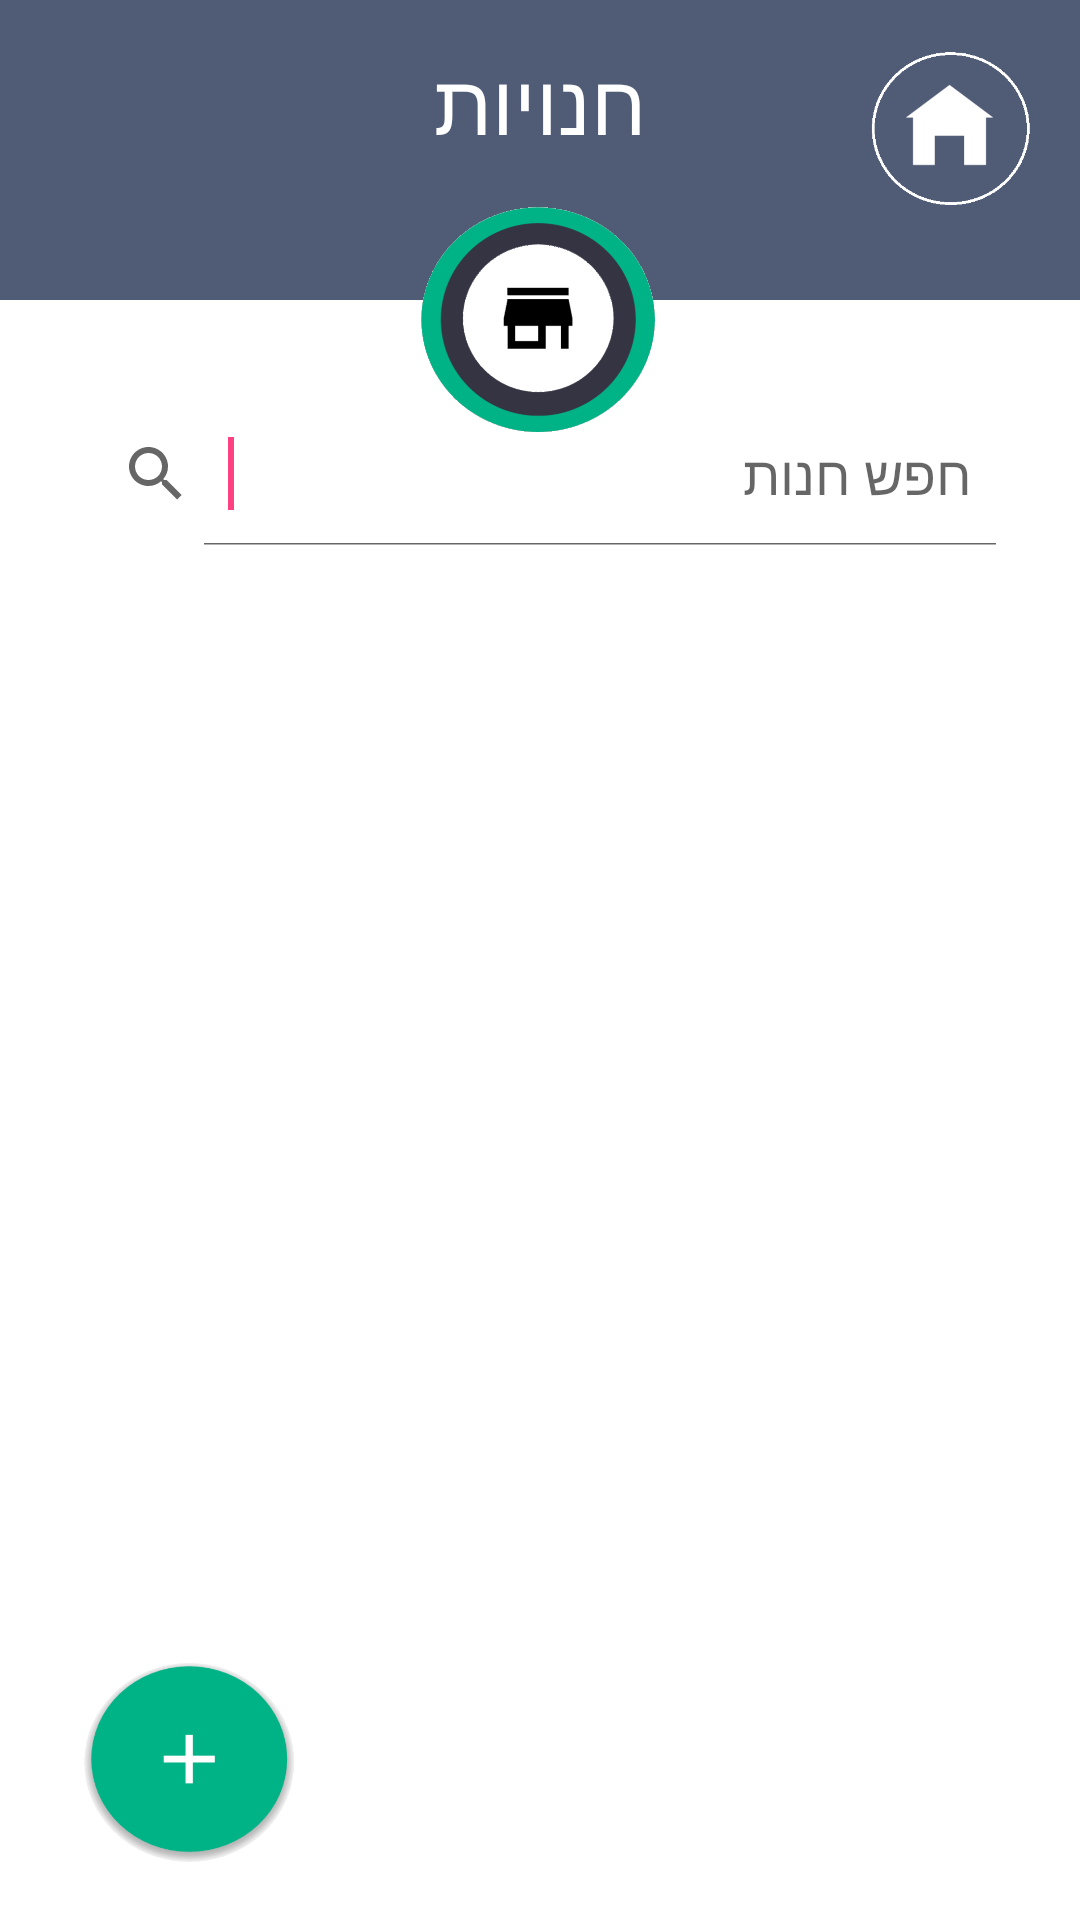

Locate icon controls on the screen. Image size 1080 x 1920, boxes as (x1, y1, x2, y2).
add: (86, 1665, 292, 1860)
home circle: (872, 52, 1030, 205)
